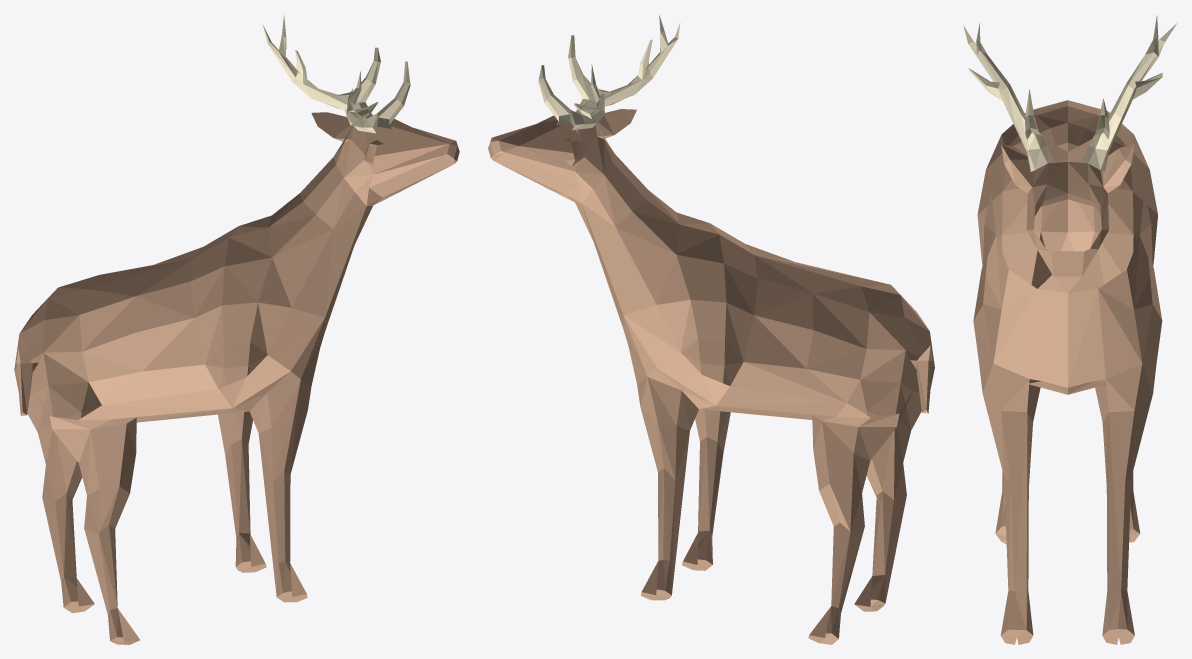
Rendered from animals-deer-064.glb.
3 renders of one model, left to right at view 1: azimuth 30°, elevation 25°; view 2: azimuth 150°, elevation 25°; view 3: azimuth 270°, elevation 25°, orthographic. The views are drawn at different scales.
Parts seen in each view (by area): view 1: Deer; view 2: Deer; view 3: Deer.
Part boxes in pixels (bbox=[...]): Deer: bbox=[14, 15, 459, 644]; Deer: bbox=[488, 15, 934, 644]; Deer: bbox=[963, 15, 1176, 644].
Bounding box in the file's own units: 195 × 226 × 67.11.
